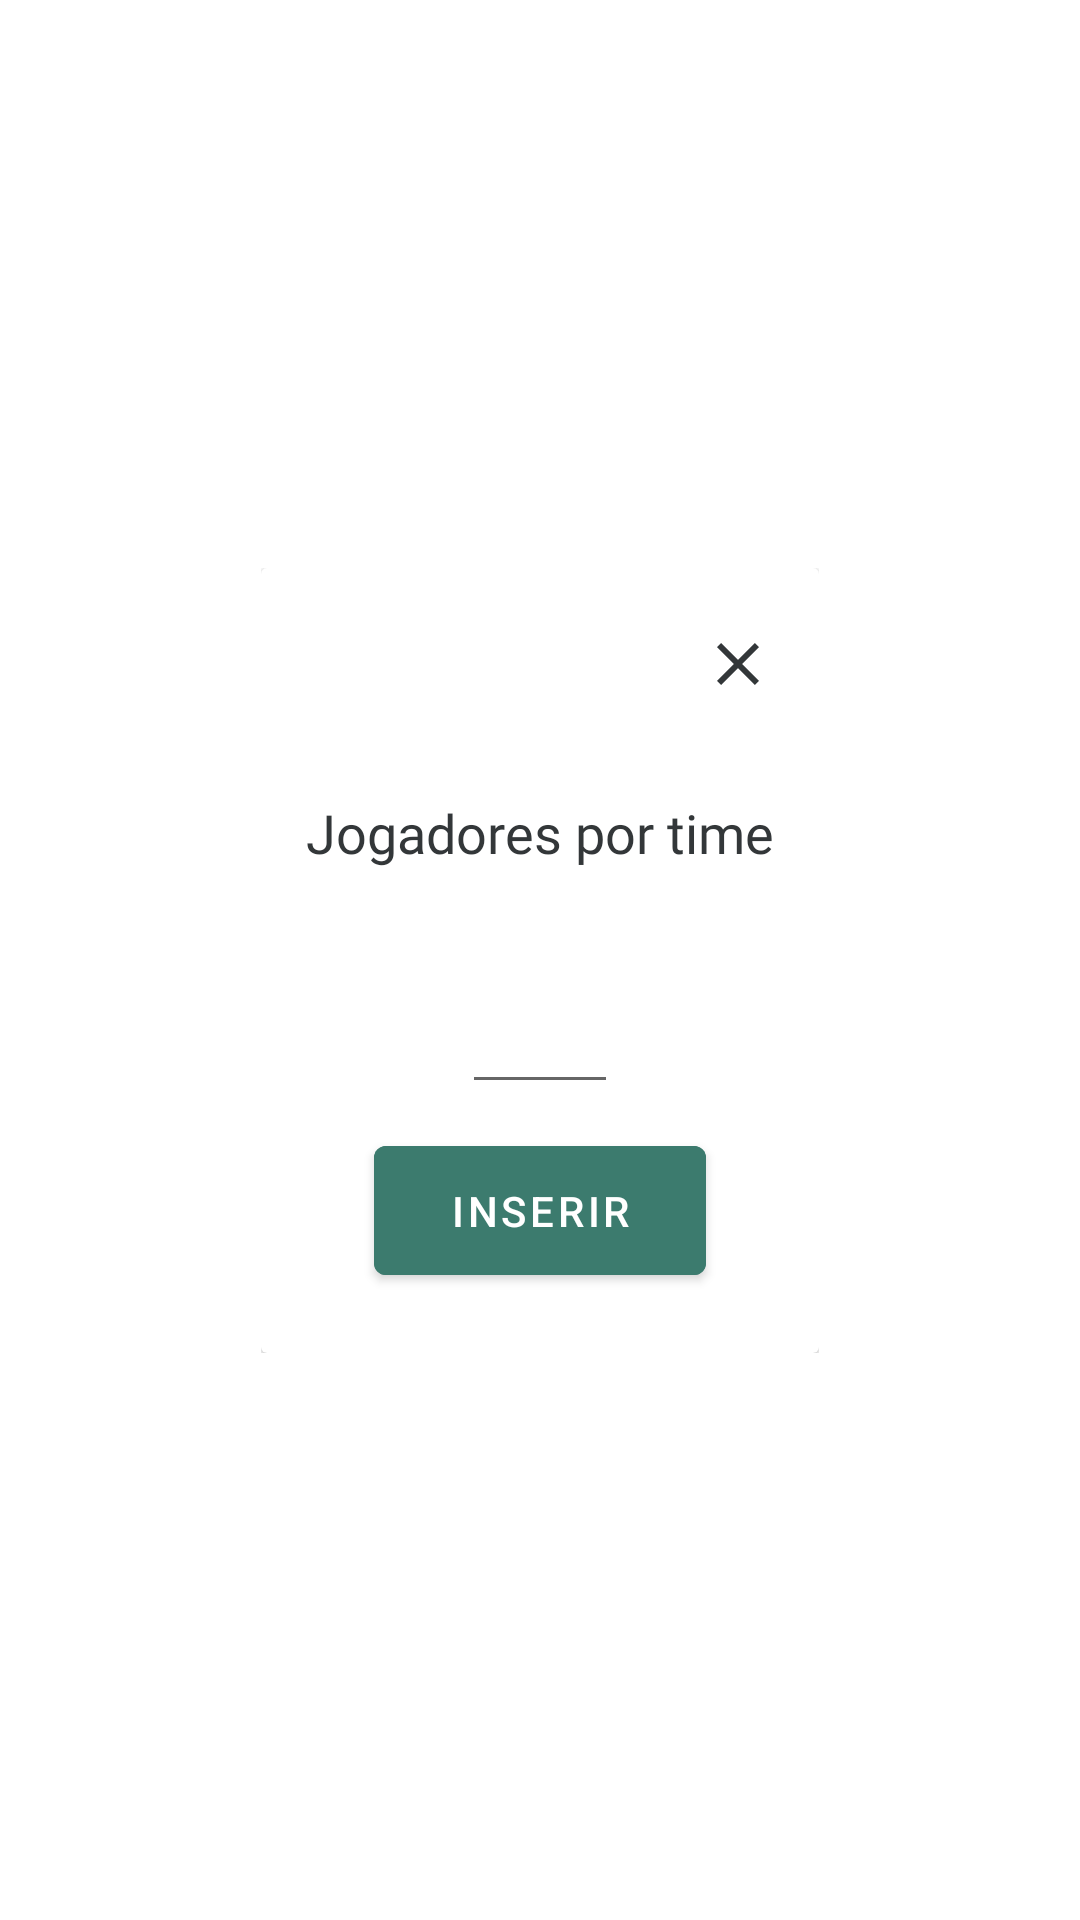

Screen size 1080×1920. Icon name, then its center in pixels as [x,y]:
close: [738,664]
